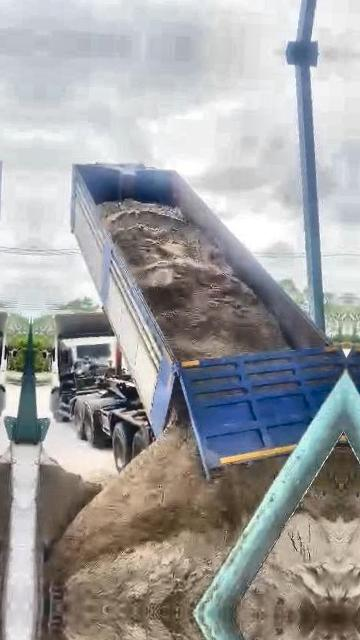sand: (48, 407, 281, 611), (101, 200, 286, 359), (239, 450, 343, 616), (37, 453, 101, 550)
